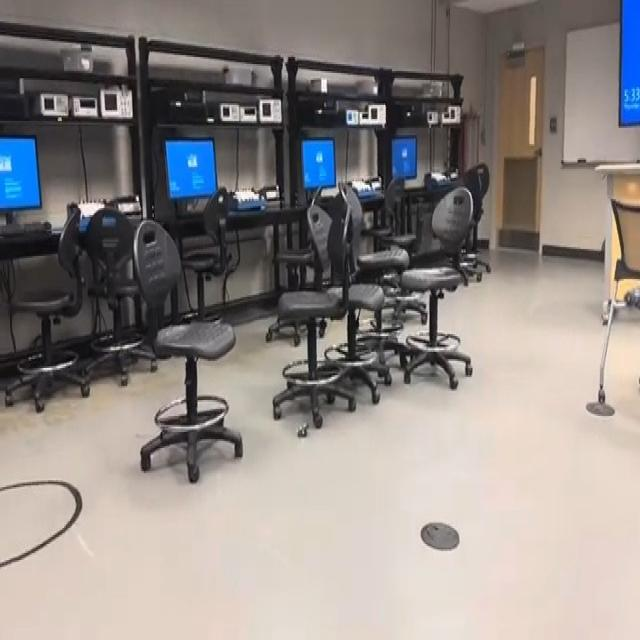drone: (292, 407, 316, 452)
